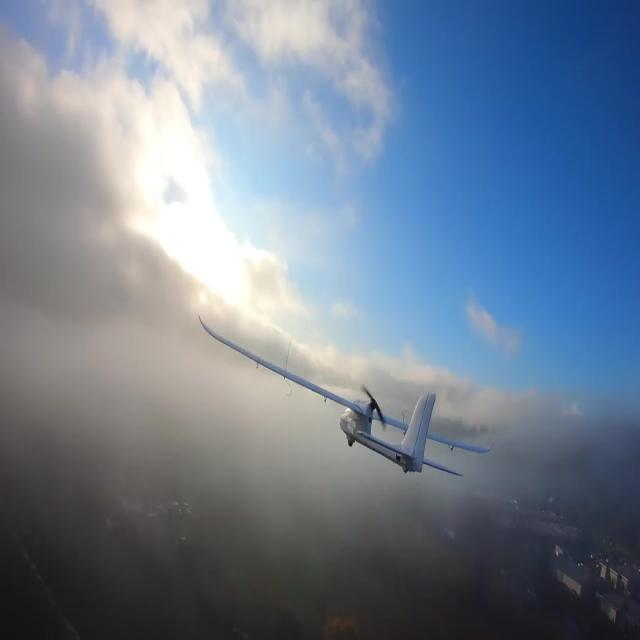iha: (198, 307, 492, 472)
